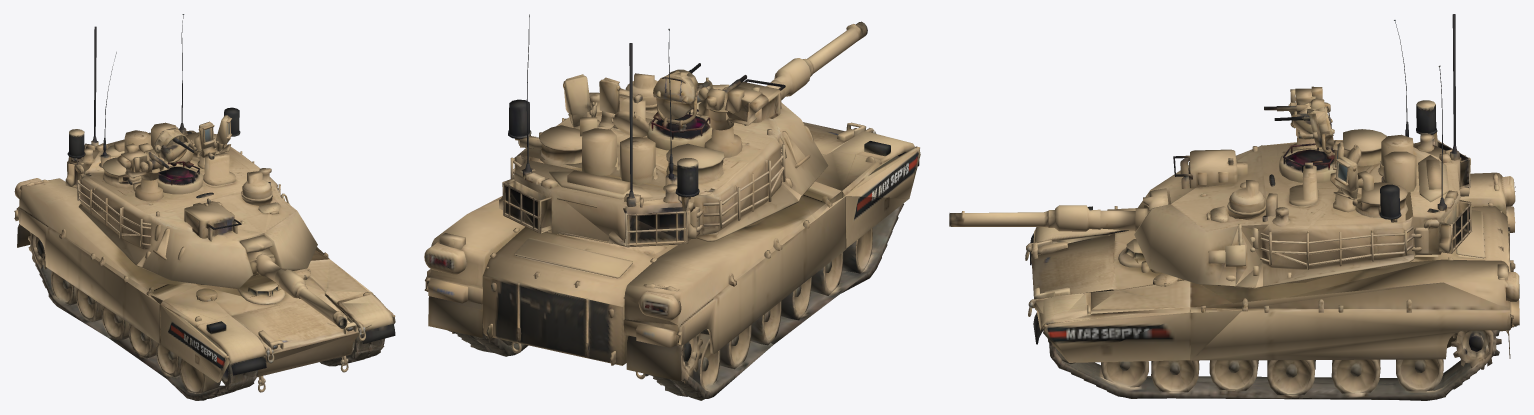
The model's file is tank-m1a2-sepv3.glb.
The picture shows the model from 3 angles, left to right: view 1: azimuth 30°, elevation 25°; view 2: azimuth 150°, elevation 25°; view 3: azimuth 270°, elevation 25°; orthographic projection. The views are drawn at different scales.
Visible parts, largest first — view 1: Hull, Turret, Gun; view 2: Hull, Turret, Gun; view 3: Hull, Turret, Gun.
Part boxes in pixels (x1,y1,x2,y2): Hull: [14, 178, 395, 400]; Turret: [65, 14, 317, 288]; Gun: [255, 253, 347, 328]; Hull: [424, 122, 920, 400]; Turret: [499, 14, 828, 247]; Gun: [766, 21, 867, 100]; Hull: [1025, 172, 1519, 400]; Turret: [1134, 14, 1471, 288]; Gun: [949, 205, 1147, 231].
Size of the model in its own units: 0.4406 by 0.5854 by 0.9529.
Materials: 1 (1 with a texture image).
